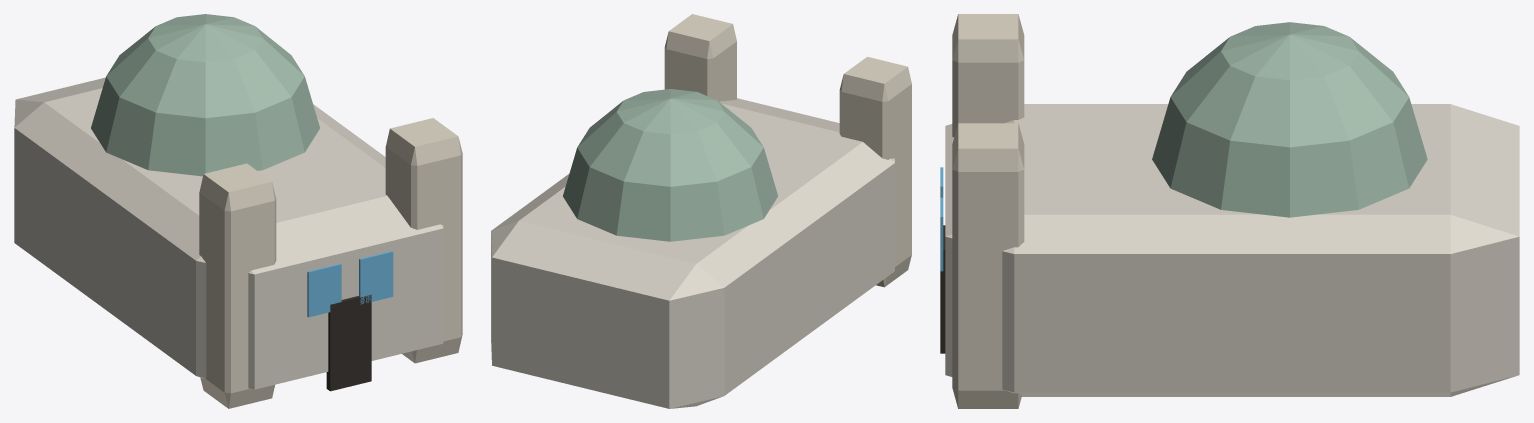
File: church_dome_s.glb
3 views of the same model, side by side, from view 1: azimuth 30°, elevation 25°; view 2: azimuth 150°, elevation 25°; view 3: azimuth 270°, elevation 25° (orthographic). The views are drawn at different scales.
Visible parts, largest first — view 1: walls, dome, ft, ft.001, arch, win.001, win; view 2: walls, dome, ft, ft.001; view 3: walls, dome, ft.001, ft, arch.
Part boxes in pixels (x1,y1,x2,y2): walls: [14, 77, 443, 389]; dome: [91, 14, 319, 176]; ft: [199, 163, 276, 408]; ft.001: [385, 118, 462, 363]; arch: [326, 294, 371, 391]; win.001: [359, 251, 393, 304]; win: [307, 263, 341, 317]; walls: [491, 98, 894, 408]; dome: [563, 89, 777, 241]; ft: [839, 56, 911, 287]; ft.001: [664, 14, 736, 101]; walls: [945, 104, 1519, 396]; dome: [1152, 22, 1427, 217]; ft.001: [952, 123, 1024, 408]; ft: [952, 14, 1024, 137]; arch: [940, 225, 945, 353].
Bounding box in the file's own units: 12 × 11.8 × 20.17.
